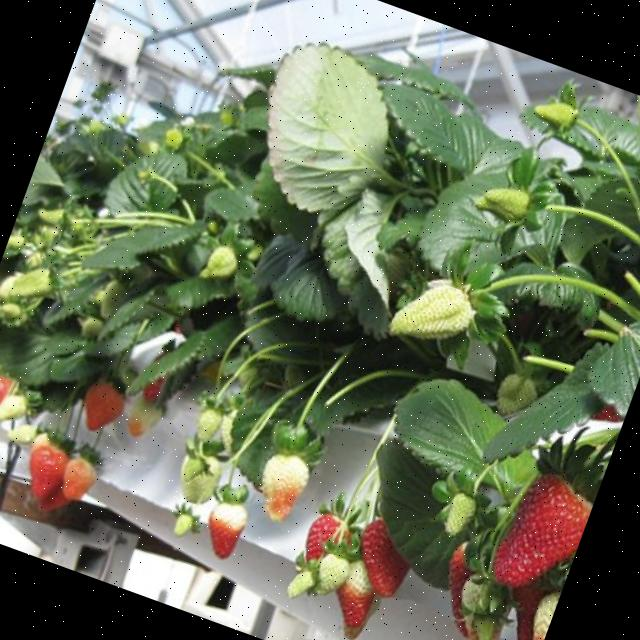Ripe Strawberry: (487, 469, 596, 600), (347, 518, 422, 602), (492, 584, 556, 640), (78, 377, 128, 437), (302, 512, 350, 568), (23, 442, 70, 496), (34, 474, 74, 518), (141, 376, 165, 406), (0, 374, 8, 413)
